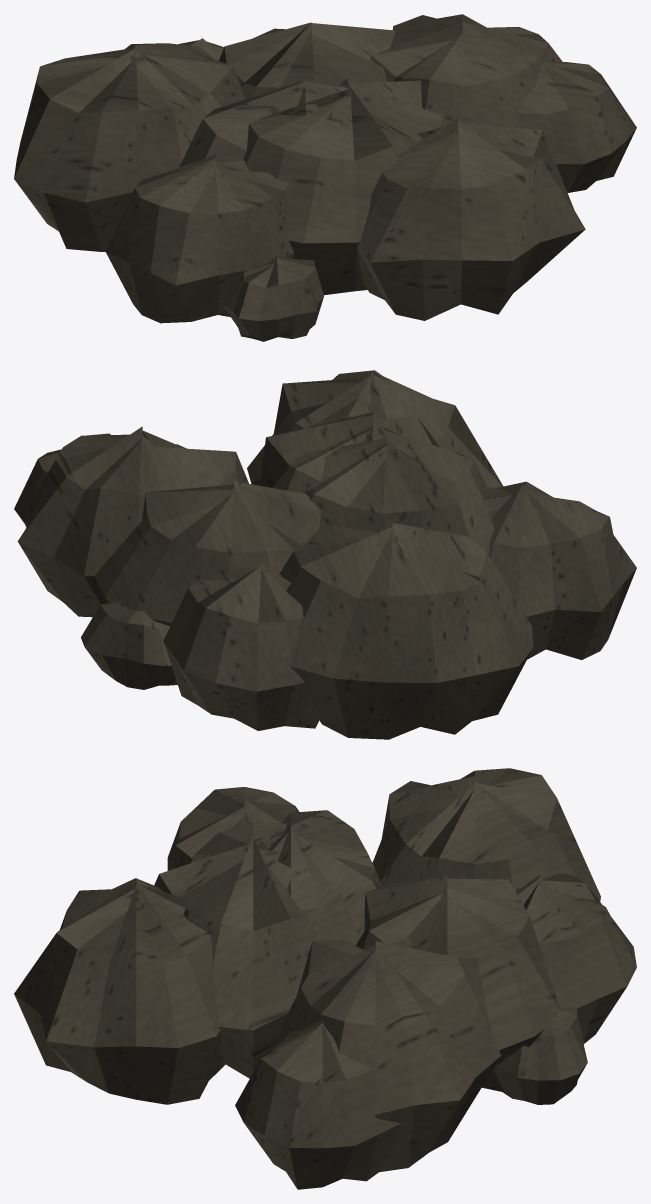
File: PROP-8567FBD06306_lod0.glb
3 renders of one model, top to bottom at view 1: azimuth 30°, elevation 25°; view 2: azimuth 150°, elevation 25°; view 3: azimuth 270°, elevation 25°, orthographic. The views are drawn at different scales.
Parts seen in each view (by area): view 1: rock.001; view 2: rock.001; view 3: rock.001.
Part boxes in pixels (left/top/right/bottom): rock.001: left=14, top=14, right=636, bottom=341; rock.001: left=14, top=370, right=636, bottom=739; rock.001: left=14, top=768, right=636, bottom=1189.
Bounding box in the file's own units: 1.29 × 0.4091 × 1.15.
Materials: 1 (1 with a texture image).
